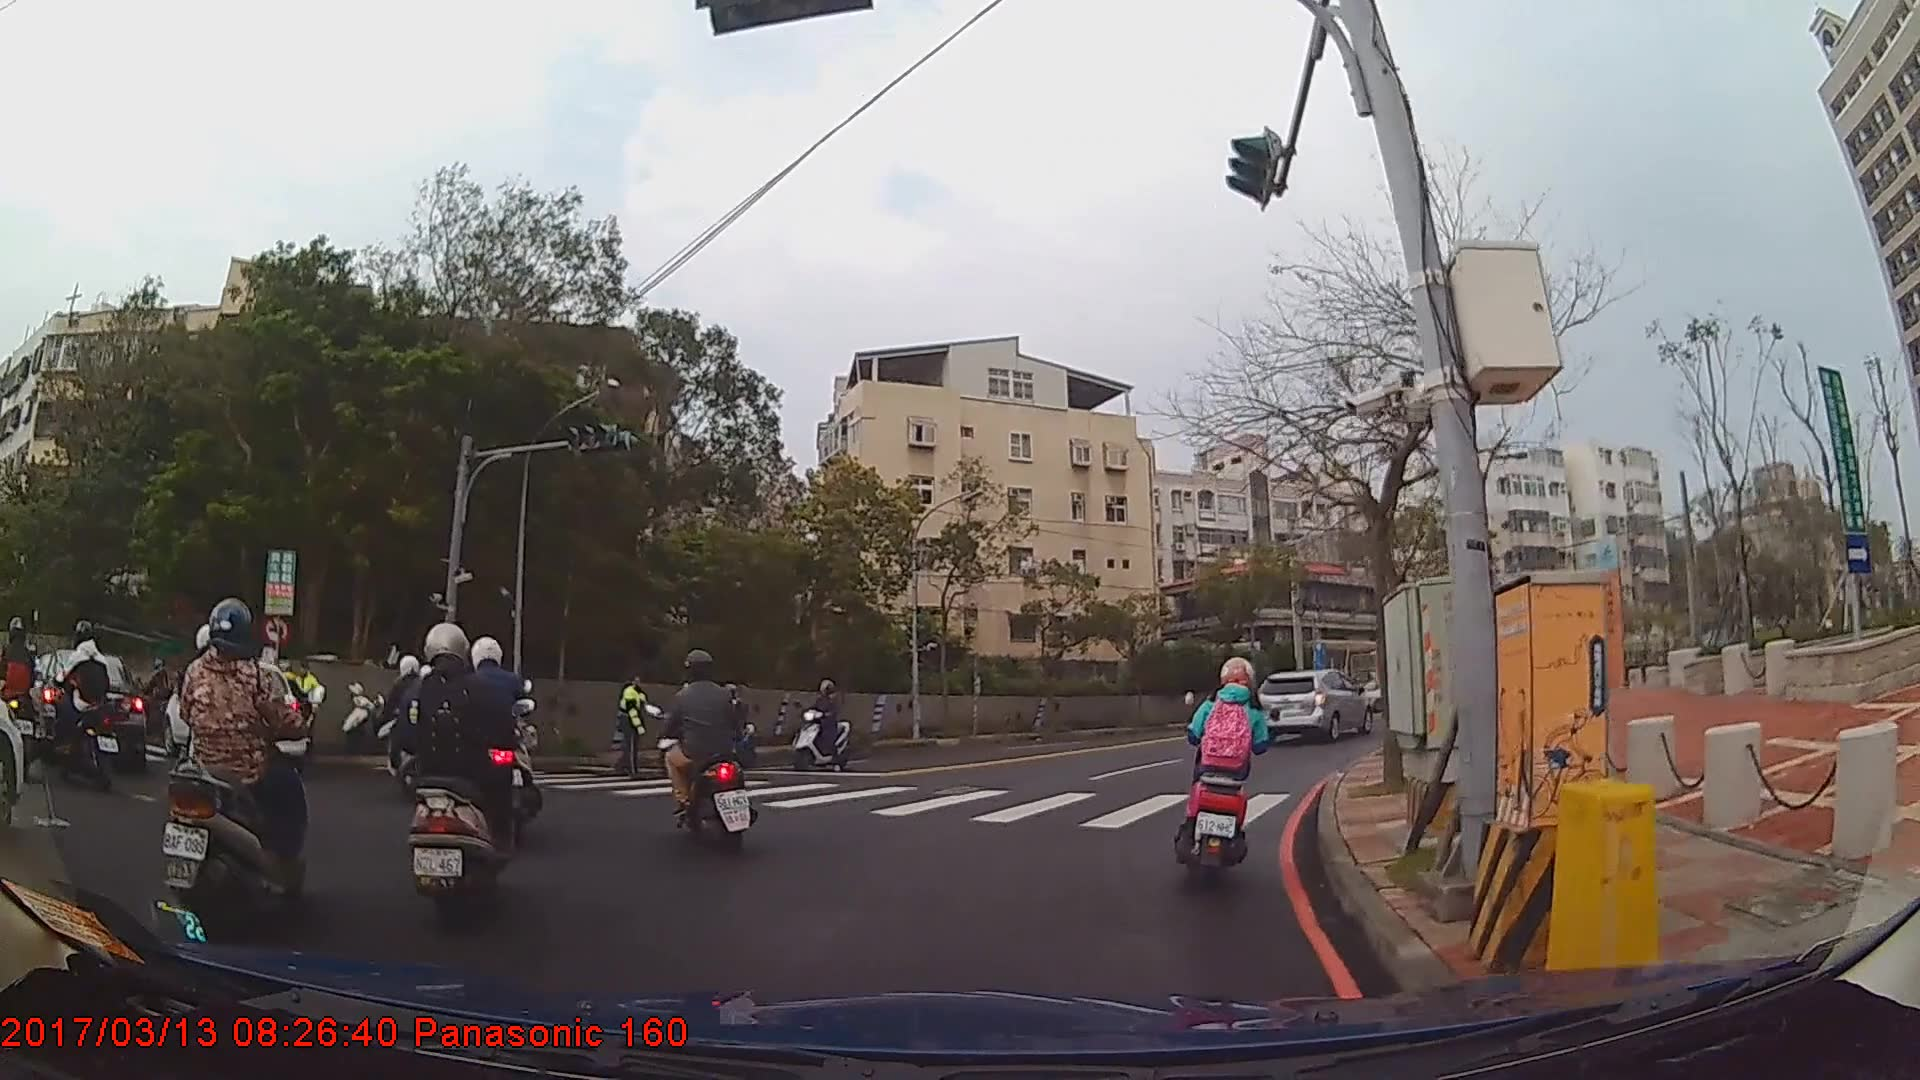pedestrian: (610, 671, 650, 778)
rider: (163, 596, 315, 933), (396, 617, 519, 910), (1183, 655, 1276, 871), (659, 648, 754, 852), (457, 632, 544, 836), (366, 654, 446, 804), (49, 619, 111, 783), (2, 618, 44, 778), (791, 679, 851, 770)
vehicle: (34, 647, 145, 766), (1248, 666, 1372, 746)
